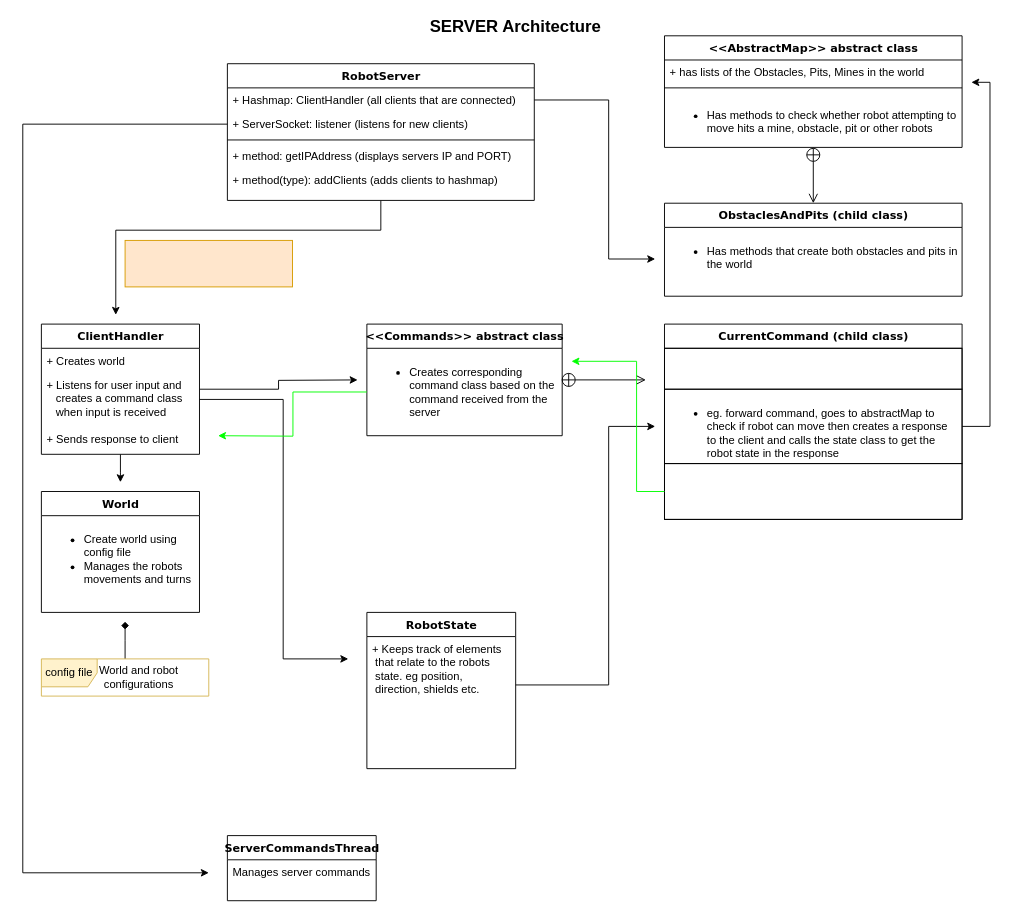
This 1014x919 diagram has some shape labels left out. The shapes that lost their labels are listed below. From the top down, each one's centre as x and y in pixels, then its label:
At pixel 208 263: "Client Successfully to the server and creates new Thread".
At pixel 813 368: "Any command that is currently running".
At pixel 813 491: "returns current commands response to Commands class".
